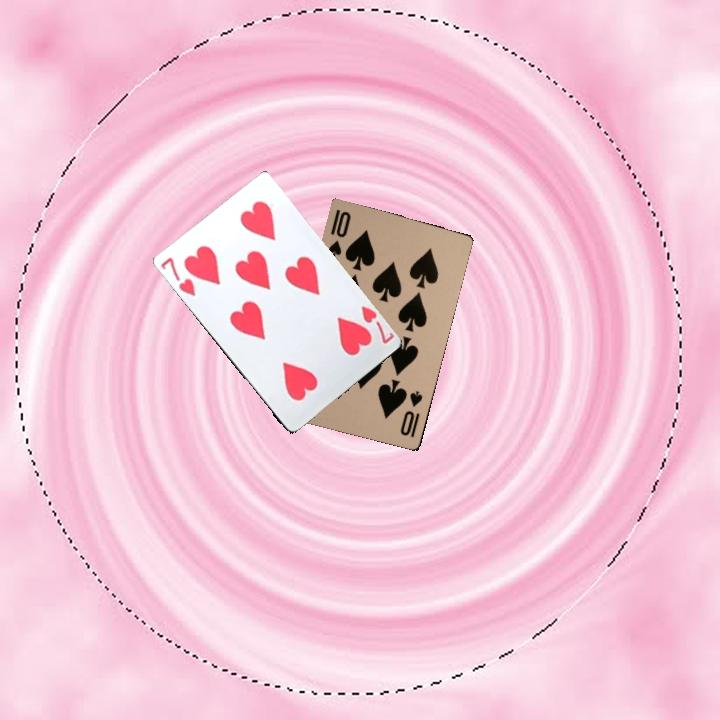10s: (324, 205, 353, 259), (396, 387, 425, 440)
7h: (156, 253, 198, 299), (357, 302, 396, 346)
